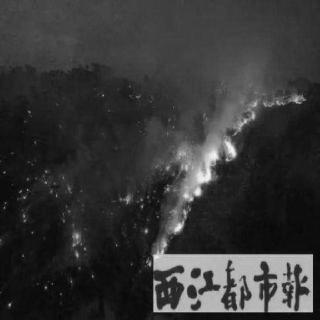Fire: (119, 48, 307, 260)
